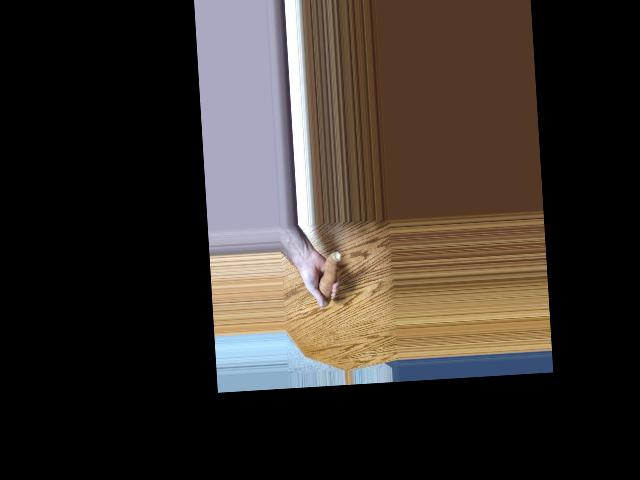sweet_potato: (316, 247, 343, 310)
